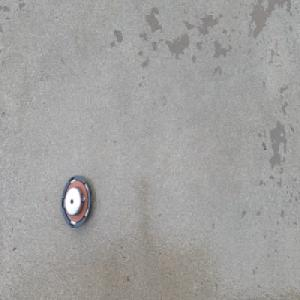FuelCap: (60, 173, 92, 230)
